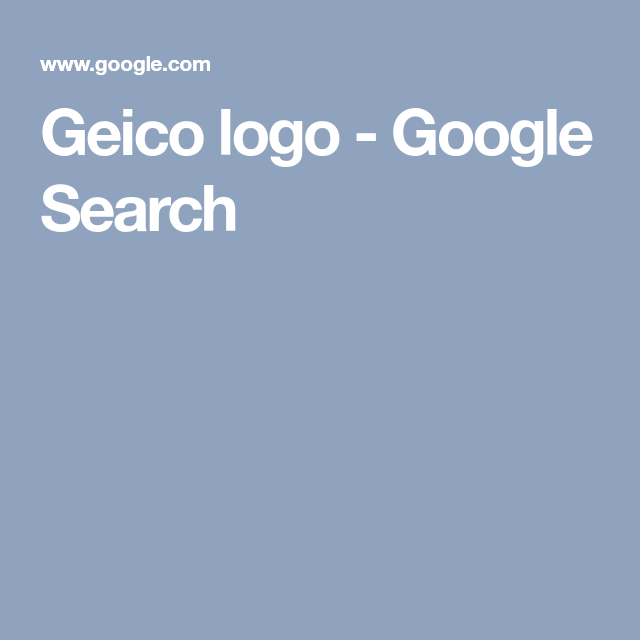Geico: (40, 105, 209, 167)
